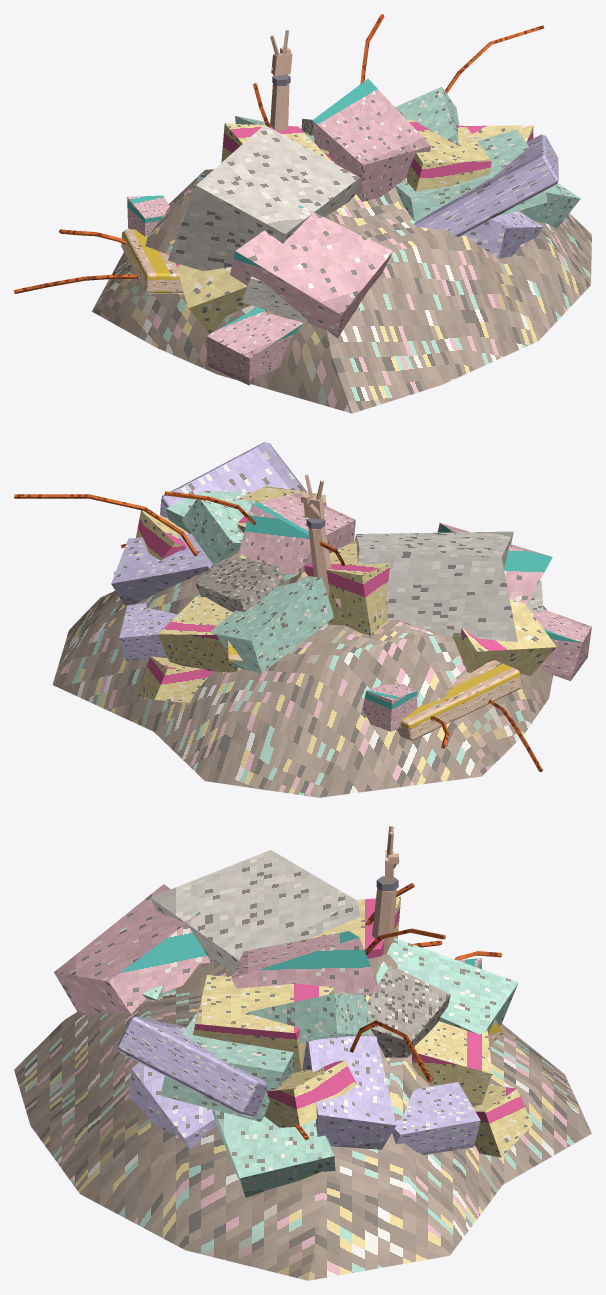
The model's file is s_rubble_b.glb.
3 views of the same model, one above another, from view 1: azimuth 30°, elevation 25°; view 2: azimuth 150°, elevation 25°; view 3: azimuth 270°, elevation 25° (orthographic). The views are drawn at different scales.
Parts seen in each view (by area): view 1: s_rubble_b_mesh; view 2: s_rubble_b_mesh; view 3: s_rubble_b_mesh.
Part boxes in pixels (x1,y1,x2,y2): s_rubble_b_mesh: (14,14,591,413); s_rubble_b_mesh: (14,442,591,797); s_rubble_b_mesh: (14,826,591,1280).
Size of what is drawn, in the model's own units: 3.31 by 1.47 by 2.65.
3 materials, 3 textured.
